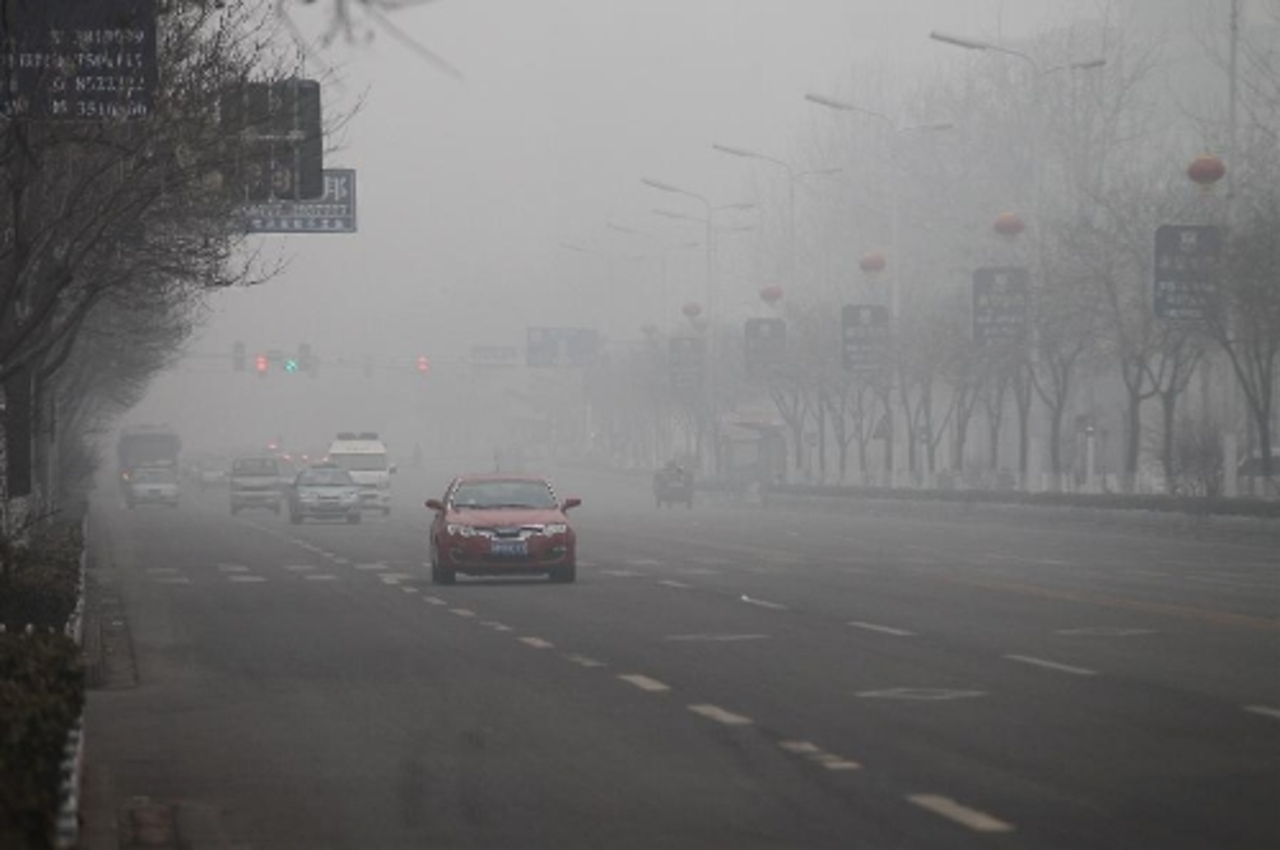bus: (325, 433, 394, 515), (115, 423, 180, 481)
car: (426, 472, 583, 584), (291, 465, 366, 525), (226, 456, 279, 513), (123, 468, 176, 506)
